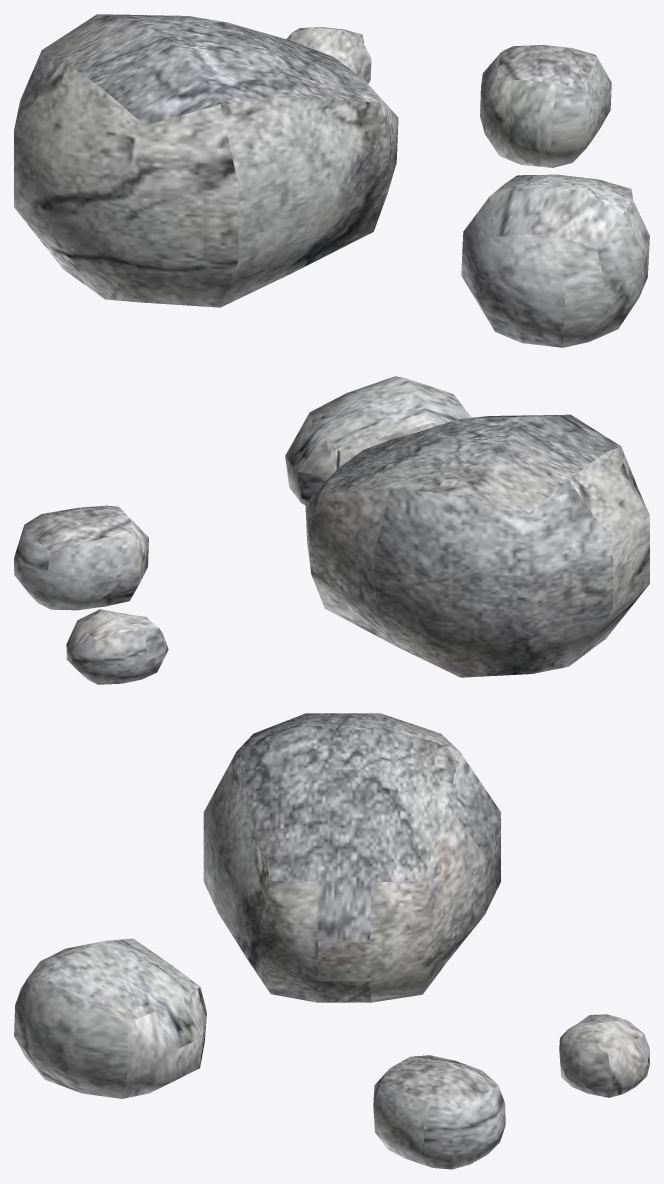
The model's file is Piedra_001_Finished.fbx.
3 renders of one model, top to bottom at view 1: azimuth 30°, elevation 25°; view 2: azimuth 150°, elevation 25°; view 3: azimuth 270°, elevation 25°, orthographic. The views are drawn at different scales.
Visible parts, largest first — view 1: Cube.003; view 2: Cube.003; view 3: Cube.003.
Part boxes in pixels (bbox=[...]): Cube.003: bbox=[14, 14, 649, 347]; Cube.003: bbox=[14, 376, 649, 684]; Cube.003: bbox=[14, 713, 649, 1169].
Size of the model in its own units: 372 by 145 by 362.
Materials: 1 (1 with a texture image).
